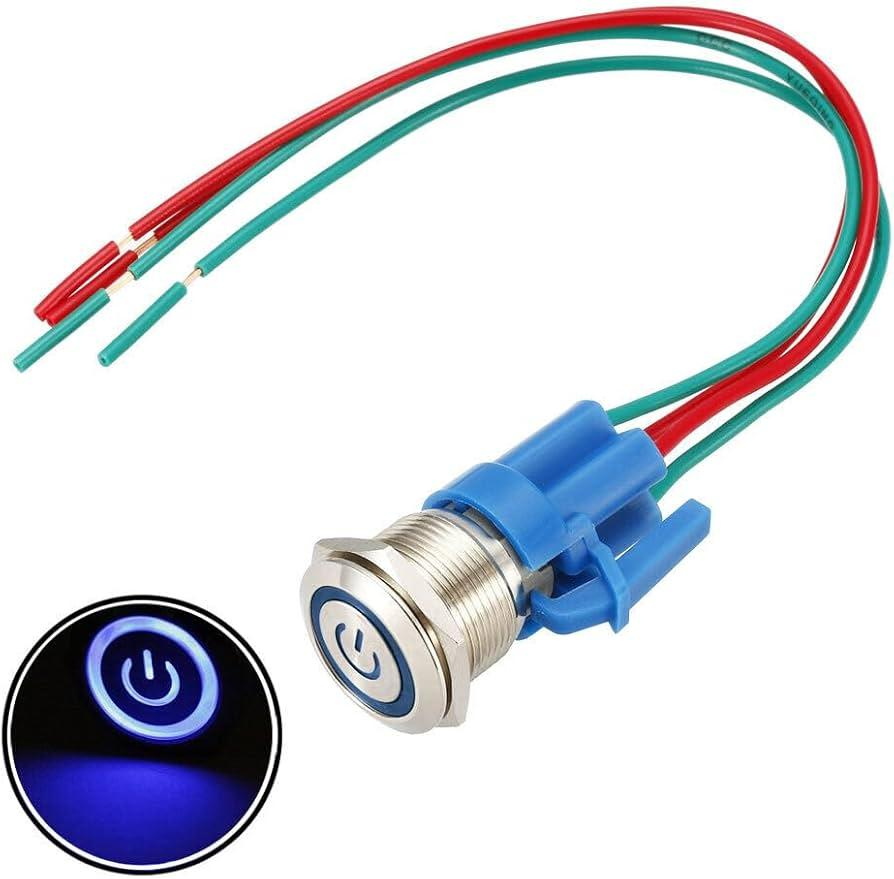pushbutton: (291, 268, 816, 739)
